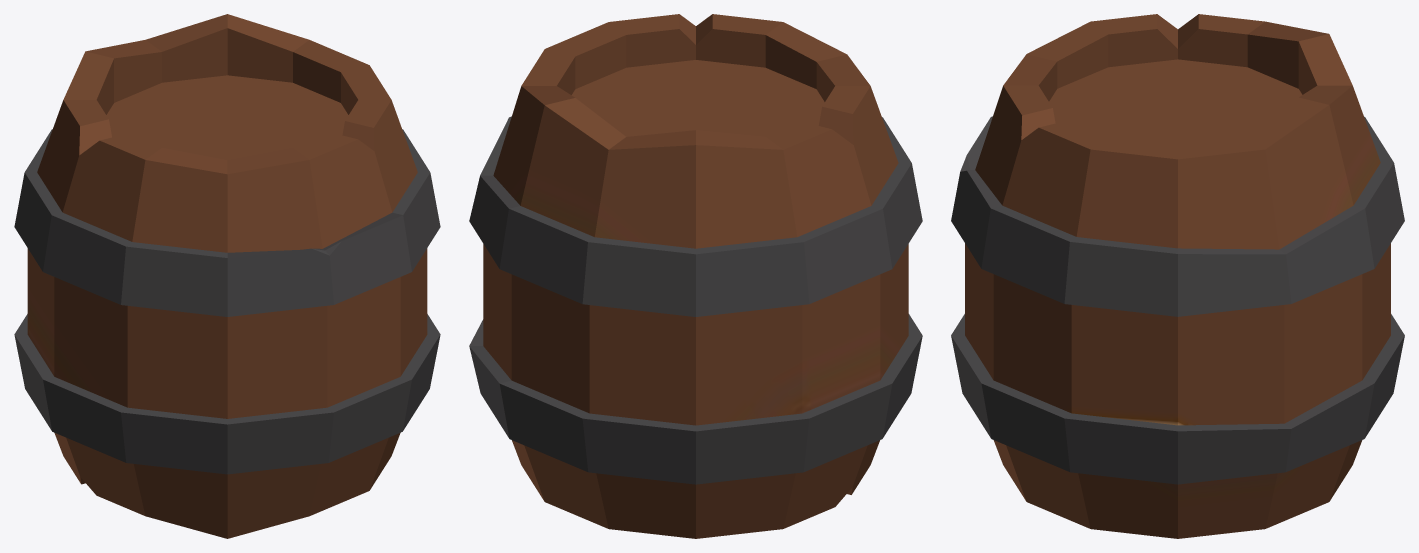
File: SM_BeerKeg_01.fbx
3 renders of one model, left to right at view 1: azimuth 30°, elevation 25°; view 2: azimuth 150°, elevation 25°; view 3: azimuth 270°, elevation 25°, orthographic. The views are drawn at different scales.
Parts seen in each view (by area): view 1: Barril; view 2: Barril; view 3: Barril.
Part boxes in pixels (bbox=[...]): Barril: bbox=[14, 14, 440, 538]; Barril: bbox=[469, 14, 922, 538]; Barril: bbox=[951, 14, 1404, 538].
Size of the model in its own units: 1 by 1 by 1.
1 material, 1 textured.
